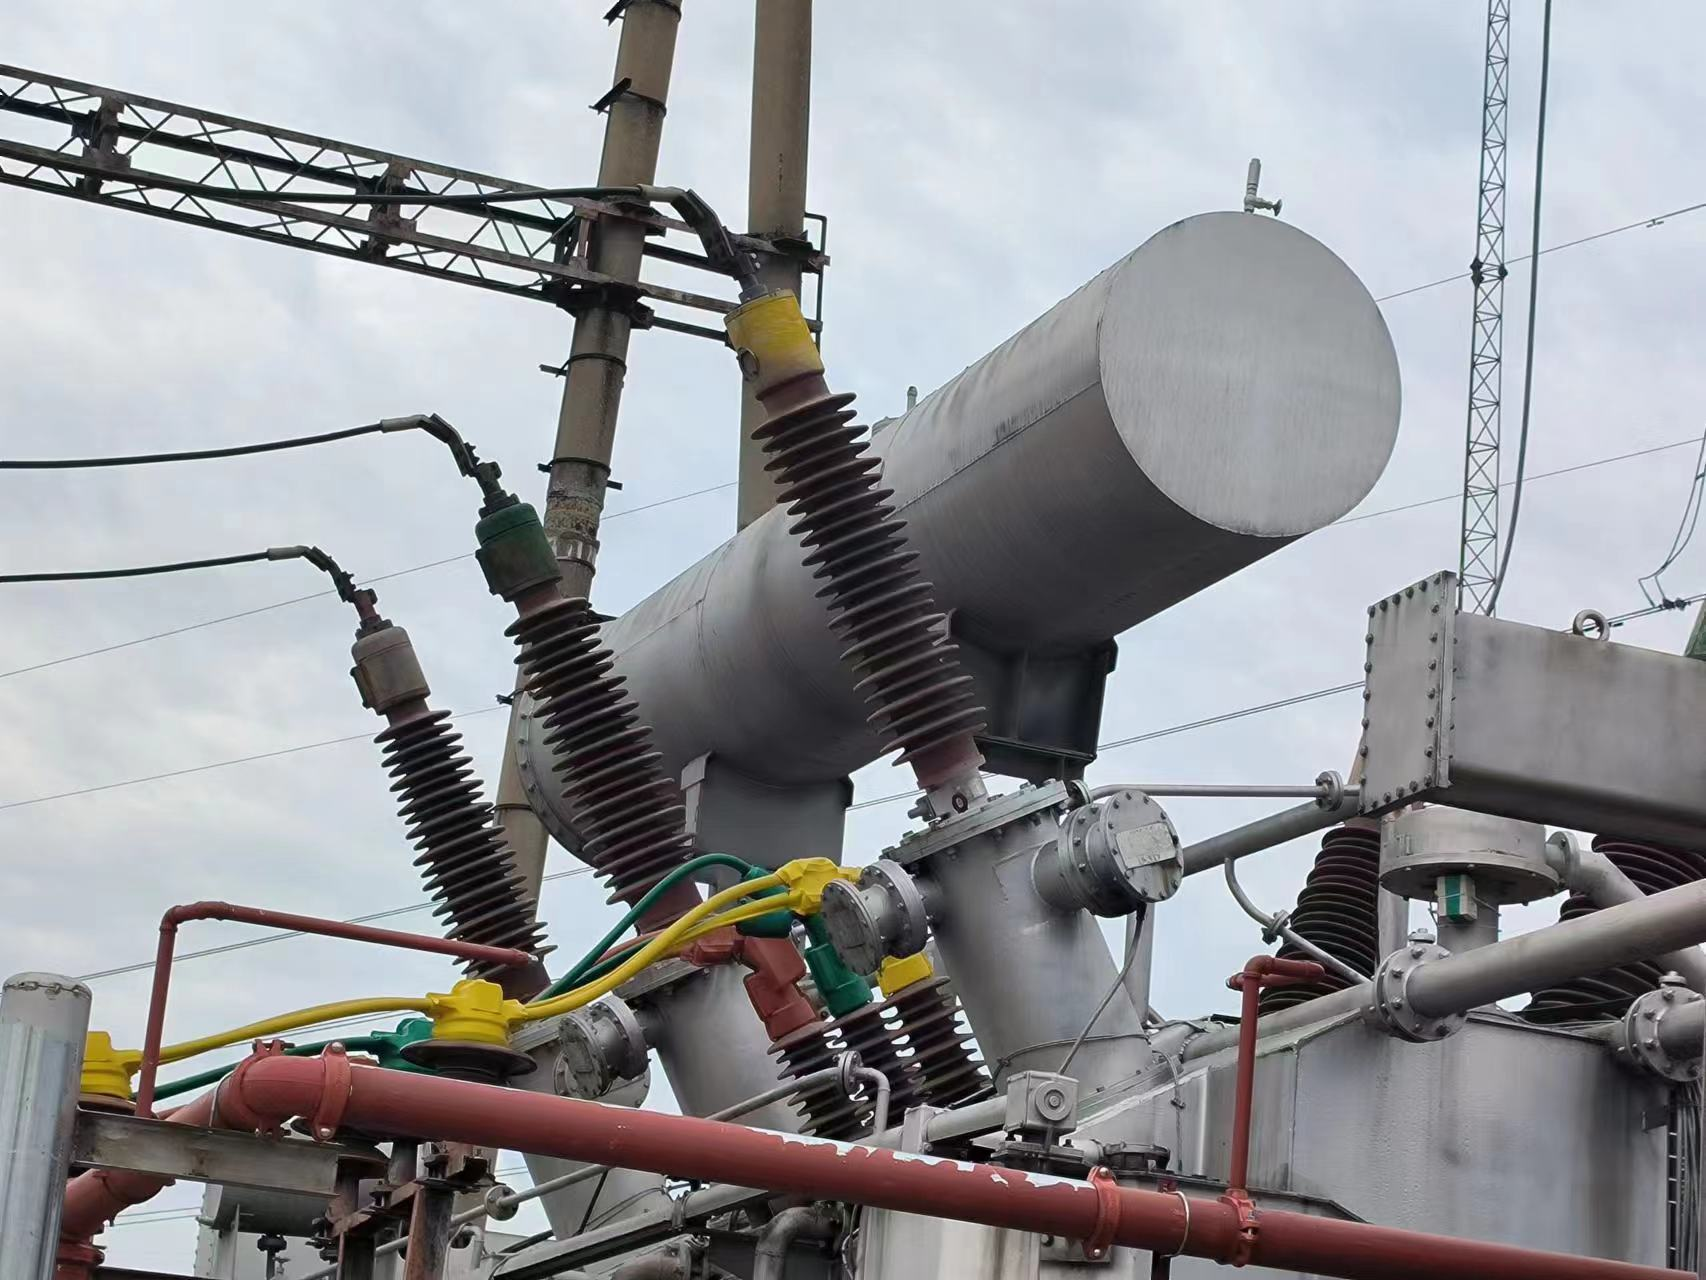Conservator: (512, 207, 1408, 890)
